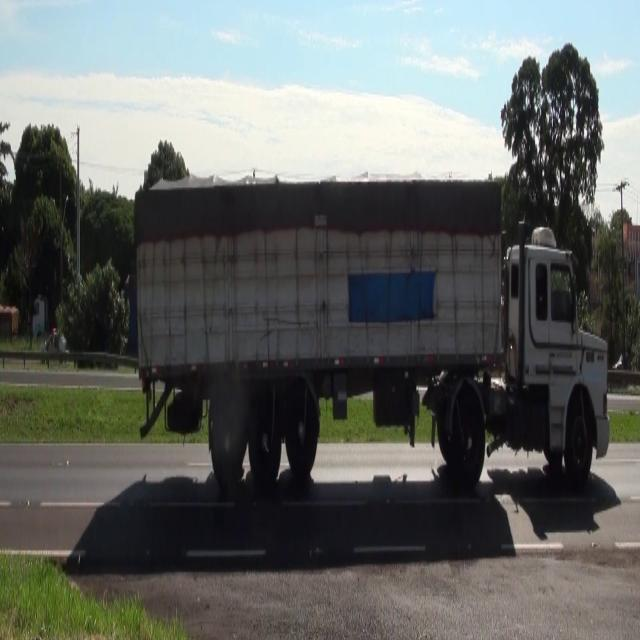-axle: (210, 385, 244, 490), (449, 390, 485, 482), (285, 381, 319, 477), (248, 394, 282, 488), (564, 392, 596, 487)
